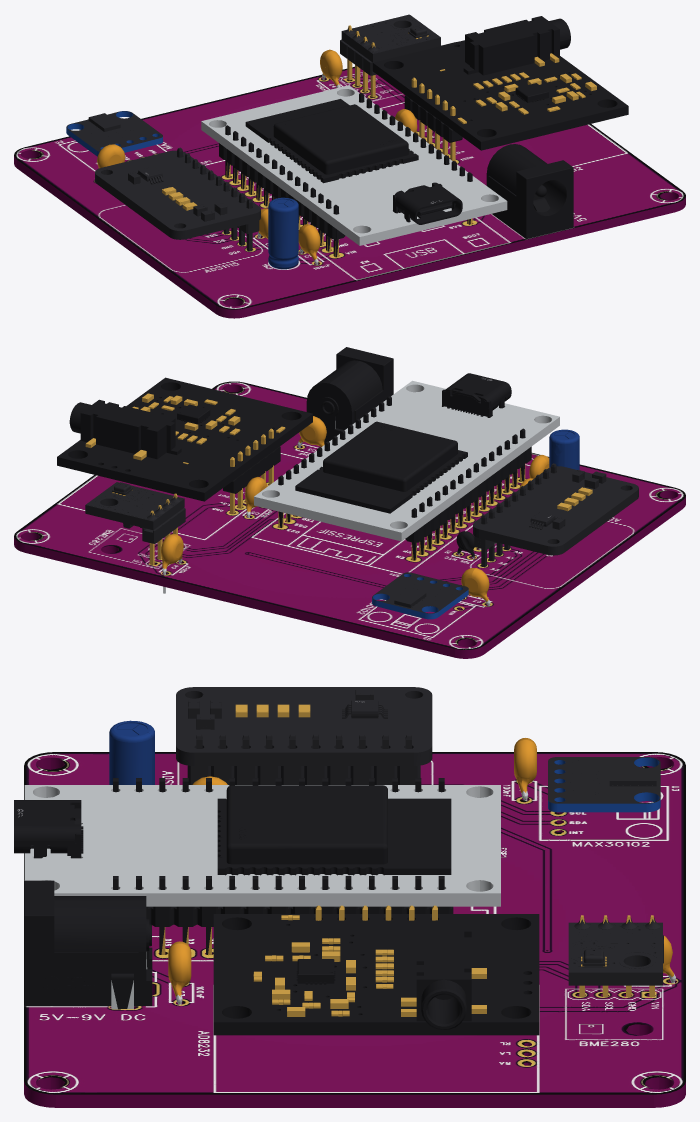
File: board.glb
The picture shows the model from 3 angles, top to bottom: view 1: azimuth 30°, elevation 25°; view 2: azimuth 150°, elevation 25°; view 3: azimuth 270°, elevation 25°; orthographic projection. The views are drawn at different scales.
Parts seen in each view (by area): view 1: Board-mesh, ESP1-mesh (×5), U2-mesh (×3), P1-mesh, DC1-mesh, U1-mesh (×2), U3-mesh, C1-mesh, C2-mesh, C4-mesh, C7-mesh; view 2: Board-mesh, ESP1-mesh (×6), U2-mesh (×3), P1-mesh, DC1-mesh (×2), U1-mesh (×2), U3-mesh, C1-mesh, C7-mesh, C4-mesh, C3-mesh; view 3: Board-mesh, ESP1-mesh (×5), U2-mesh (×3), P1-mesh (×2), DC1-mesh (×2), U3-mesh, U1-mesh, C1-mesh, C3-mesh, C7-mesh.
Boxes of the visible parts, x1,y1,x2,y2 form: Board-mesh: (14, 42, 685, 318); ESP1-mesh (×5): (201, 85, 507, 257); U2-mesh (×3): (372, 16, 628, 150); P1-mesh: (95, 150, 260, 239); DC1-mesh: (486, 144, 573, 239); U1-mesh (×2): (340, 14, 440, 75); U3-mesh: (66, 111, 163, 156); C1-mesh: (268, 197, 298, 269); C2-mesh: (298, 224, 320, 265); C4-mesh: (320, 49, 342, 87); C7-mesh: (97, 144, 125, 168); Board-mesh: (14, 381, 685, 658); ESP1-mesh (×6): (254, 373, 559, 560); U2-mesh (×3): (57, 377, 312, 501); P1-mesh: (473, 466, 638, 555); DC1-mesh (×2): (306, 347, 393, 443); U1-mesh (×2): (85, 482, 185, 543); U3-mesh: (372, 572, 468, 619); C1-mesh: (549, 429, 579, 469); C7-mesh: (461, 568, 490, 606); C4-mesh: (161, 534, 183, 593); C3-mesh: (297, 416, 326, 447); Board-mesh: (24, 752, 685, 1107); ESP1-mesh (×5): (14, 778, 500, 955); U2-mesh (×3): (213, 914, 539, 1035); P1-mesh (×2): (176, 687, 432, 765); DC1-mesh (×2): (24, 880, 152, 1009); U3-mesh: (548, 757, 660, 812); U1-mesh: (568, 922, 662, 985); C1-mesh: (109, 720, 154, 784); C3-mesh: (168, 941, 191, 1004); C7-mesh: (514, 738, 536, 801).
Size of the model in its own units: 0.0904 by 0.0185 by 0.0733.
Materials: 14 (2 with a texture image).
